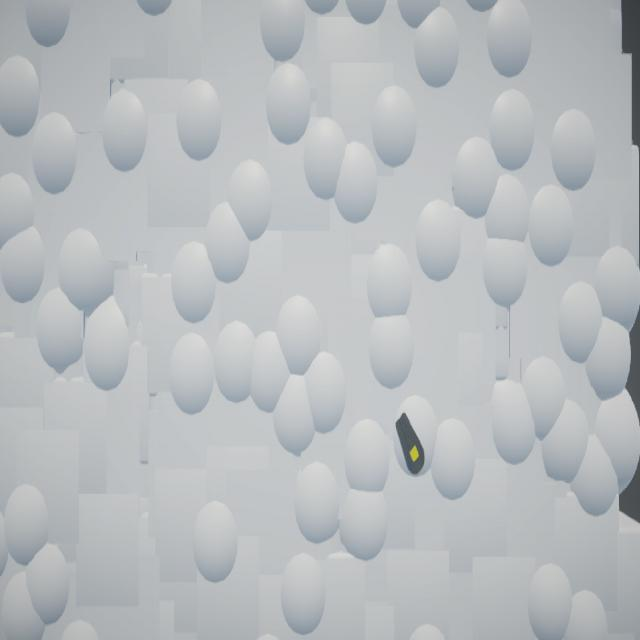handle_folk: (396, 413, 426, 476)
